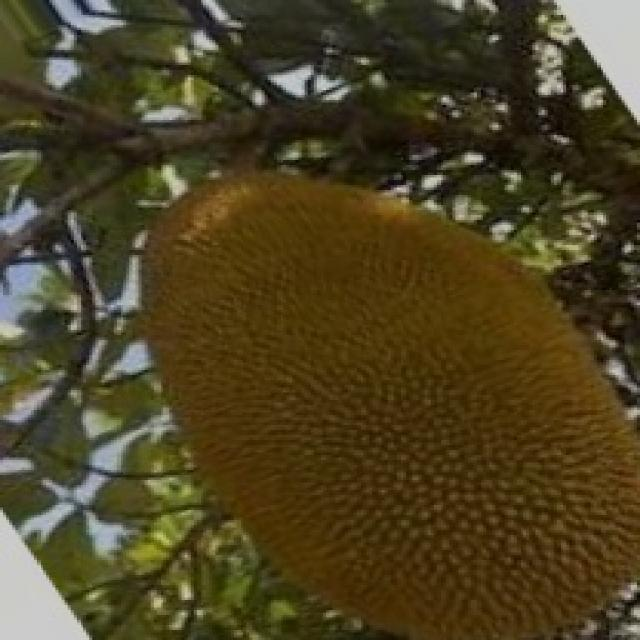Fruit: (277, 242, 637, 640)
